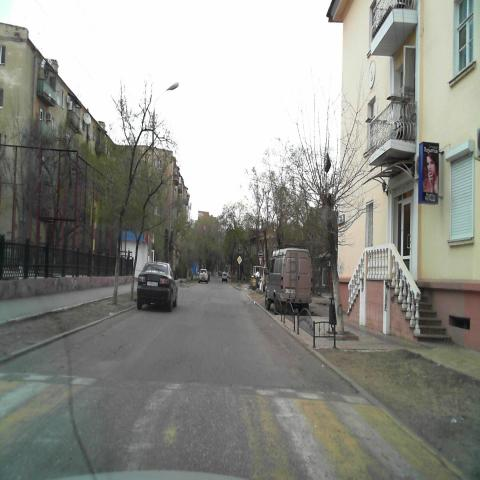2_1: (236, 255, 242, 265)
